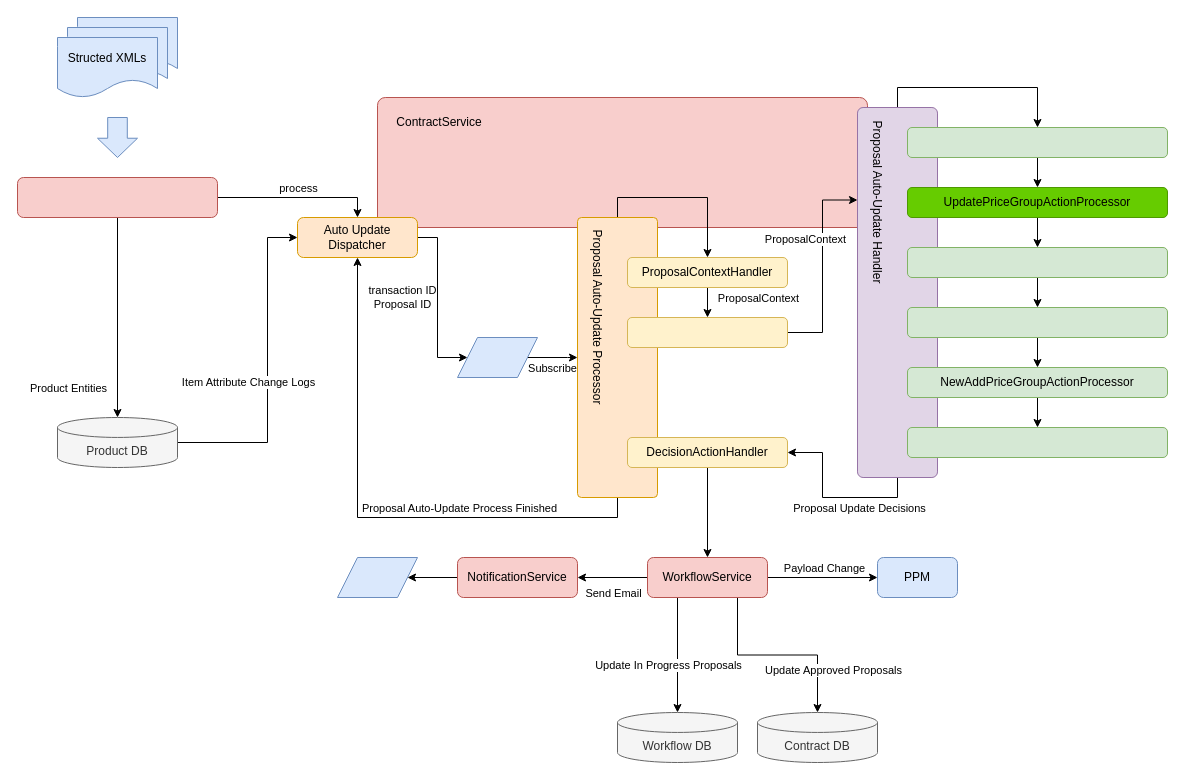
This 1185x780 diagram has some shape labels left out. Each missing label, with the centre of its shape:
"ContractItemLocationFullSelectActionProcessor" belongs at point 1037,442.
"DataMartService" belongs at point 117,197.
"InactiveItemLocationActionProcessor" belongs at point 1037,262.
"NewAddLocationActionProcessor" belongs at point 1037,322.
"ProposalItemDataBuilder" belongs at point 707,332.
"SES" belongs at point 377,577.
"SQS" belongs at point 497,357.
"UpdatePackQuantityActionProcessor" belongs at point 1037,142.
